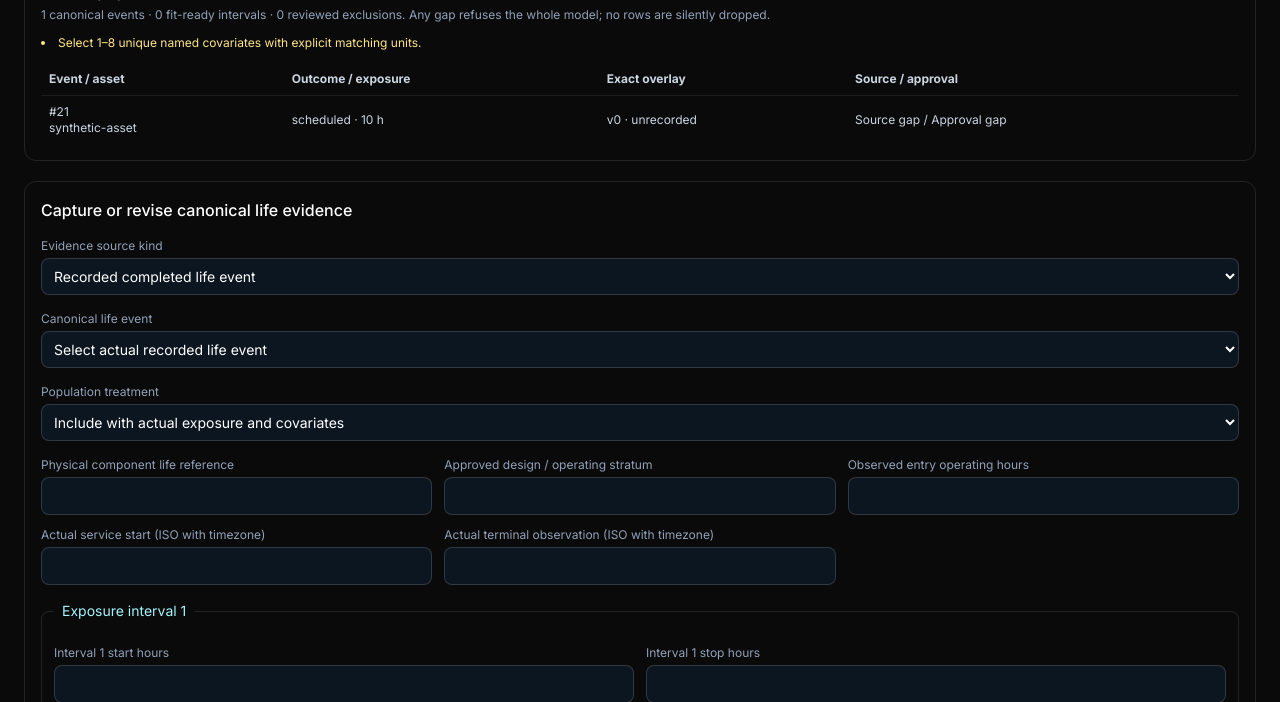
it: governed covariate survival workbench › captures an explicitly evidenced exclusion, not a silent filtered row
(page scrolled)
Select "#21 · scheduled · 10 h · v0" in the dropdown labelled "Canonical life event" at (640, 350), box 41,331 -> 1239,368
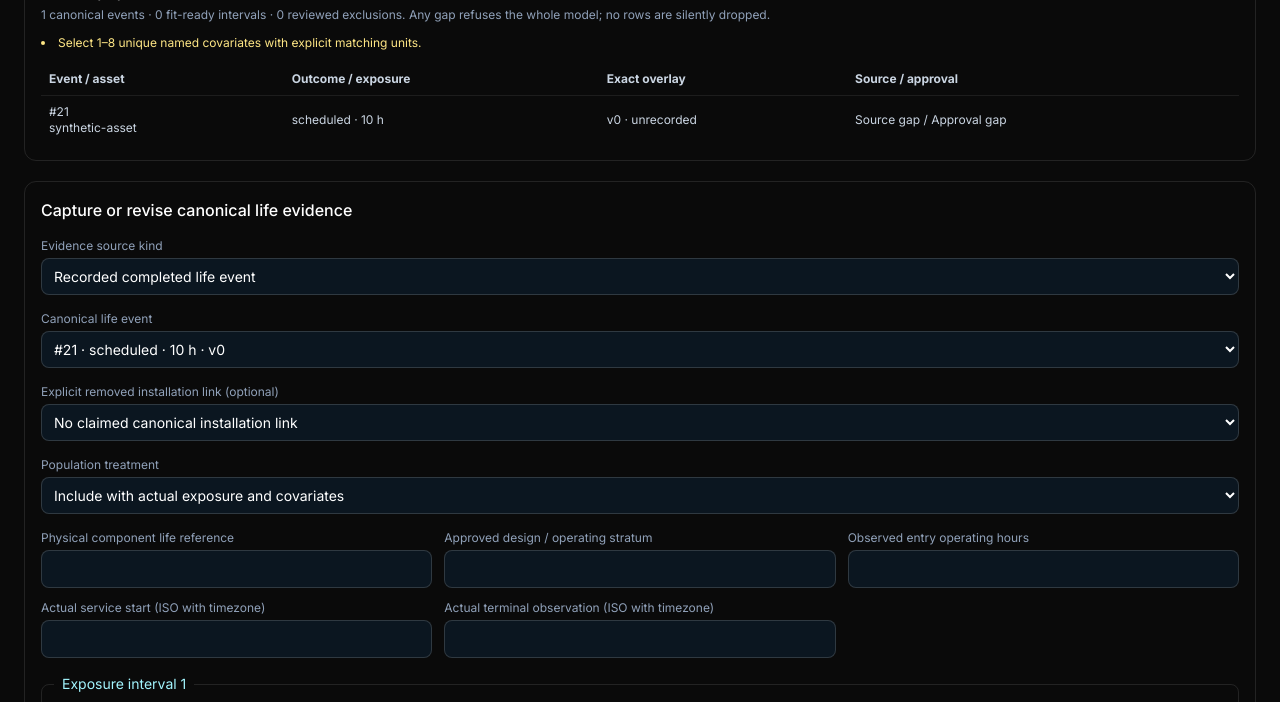
Select "Explicit evidenced exclusion" in the dropdown labelled "Population treatment" at (640, 496), box 41,477 -> 1239,514
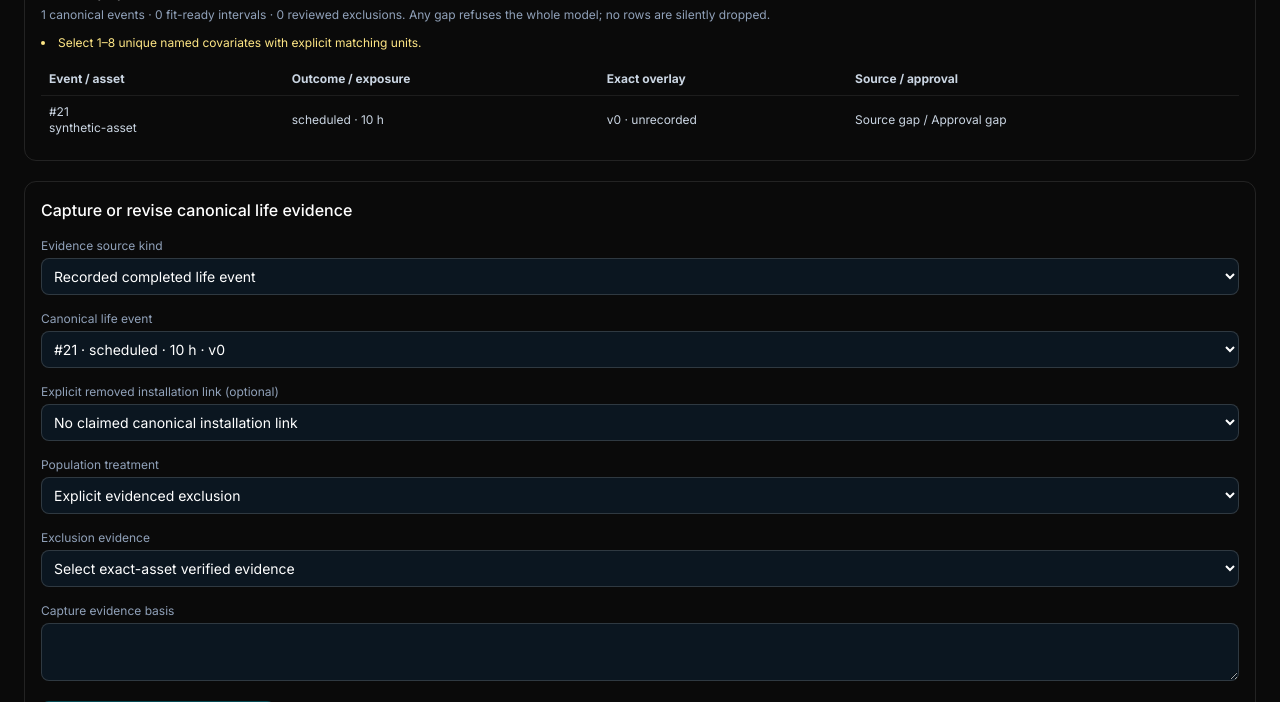
Select "Synthetic exclusion witness" in the dropdown labelled "Exclusion evidence" at (640, 568), box 41,550 -> 1239,587
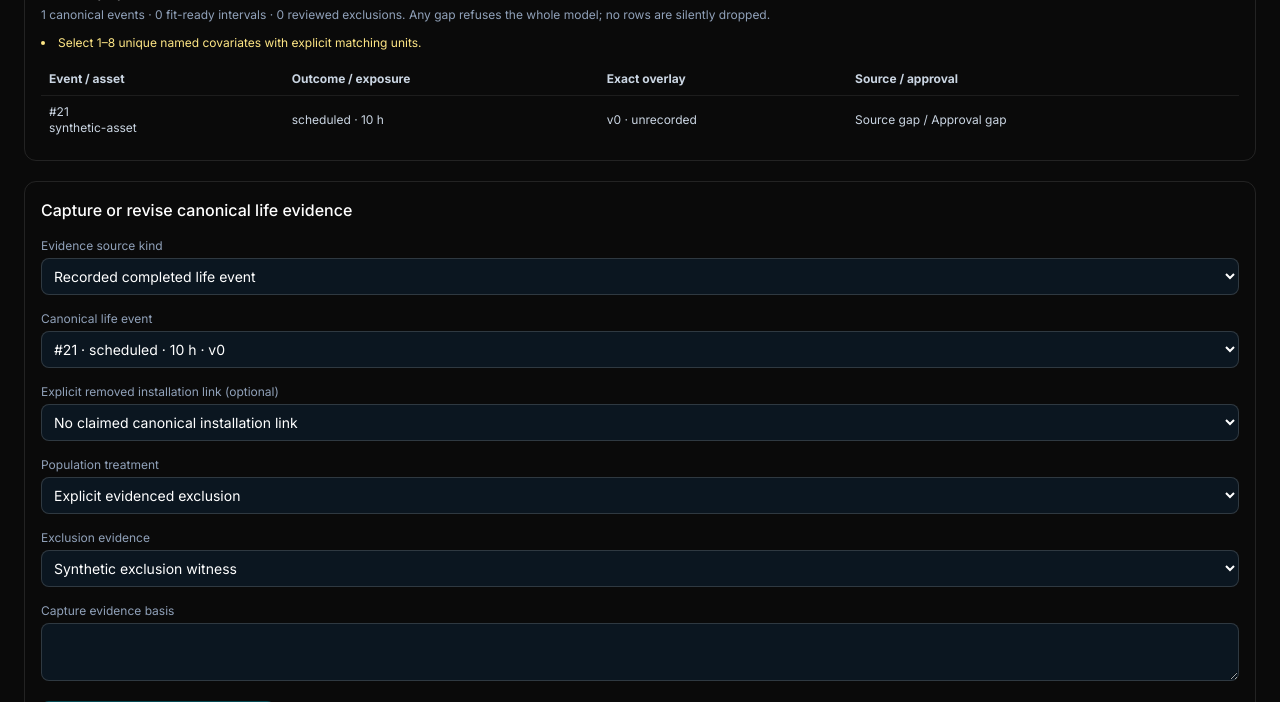
Type "Independent documented exclusion of an unknown removal." into the text box labelled "Capture evidence basis" at (640, 652), box 41,623 -> 1239,681
(page scrolled)
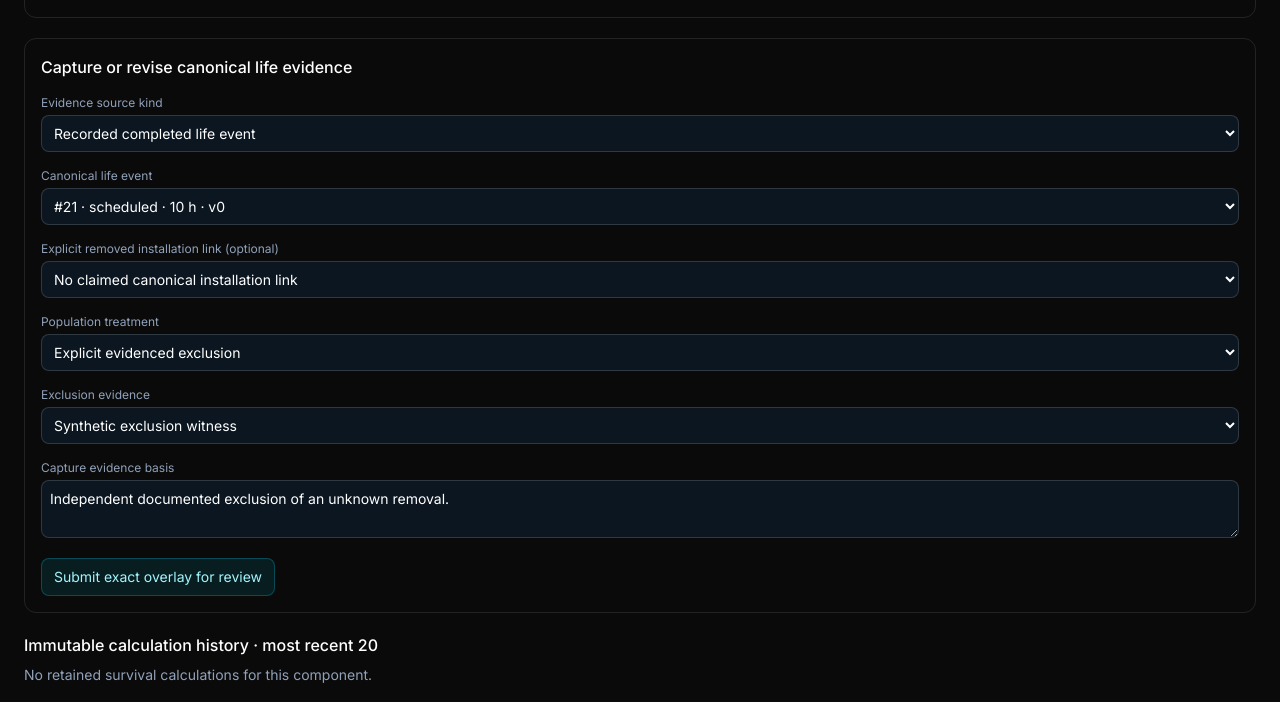
Click the button "Submit exact overlay for review" at (158, 577), box 41,558 -> 275,596
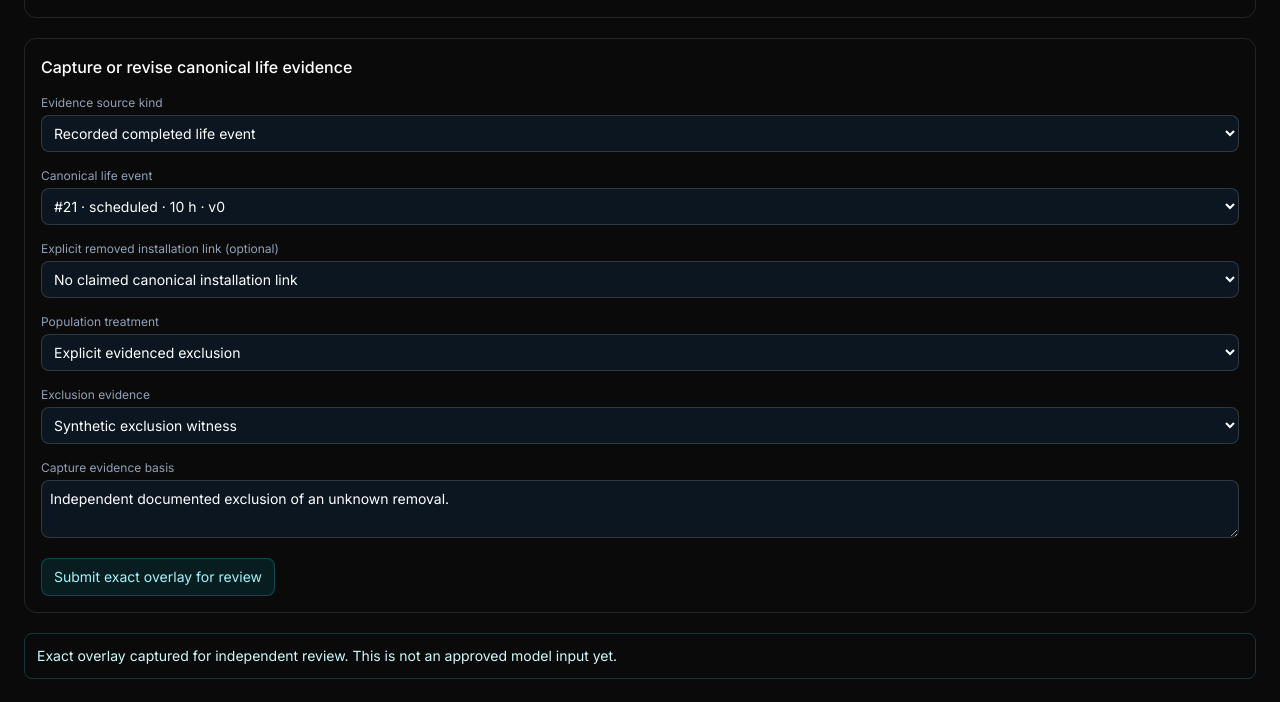
Expected: the text "not an approved model input yet" is shown, 37,647 -> 617,664
